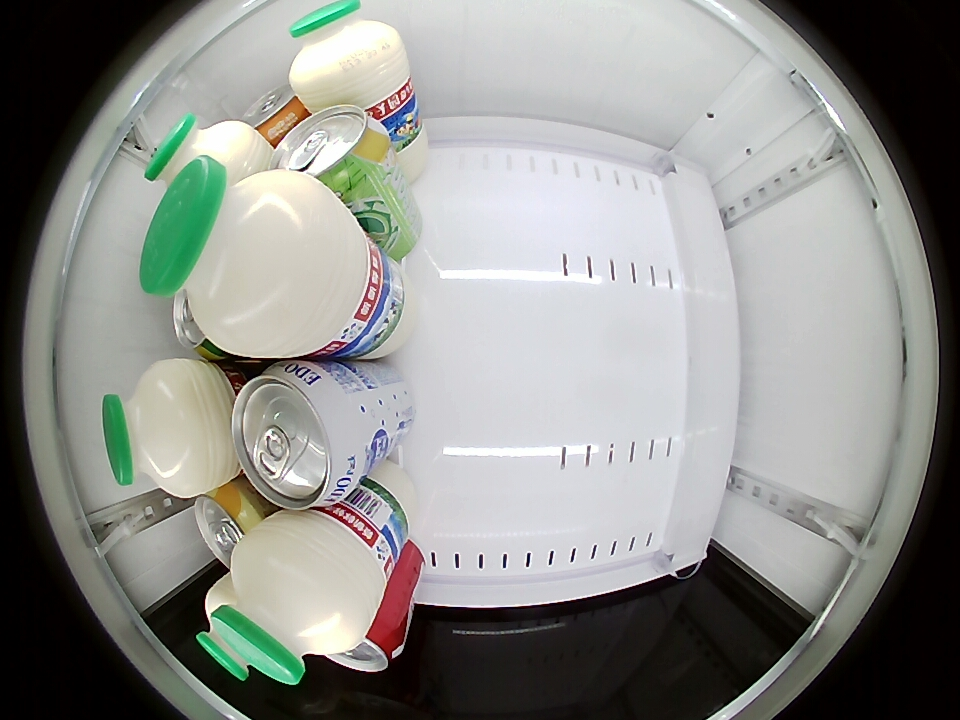fenda: (243, 86, 312, 142)
kele: (326, 613, 406, 673)
liziyuan: (140, 156, 368, 358), (211, 505, 382, 683), (101, 358, 237, 498), (287, 1, 412, 111), (143, 113, 263, 189), (199, 589, 246, 683)
mangguoxiaolao: (193, 485, 264, 570)
quchenshixiangcao: (271, 102, 391, 203)
rusuanjunqishui: (232, 361, 369, 509)
xuebi2: (158, 292, 227, 361)
